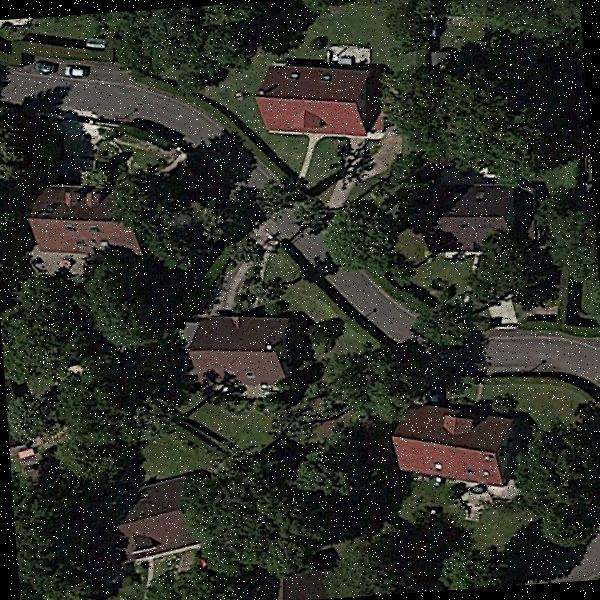Buildings: (262, 60, 378, 138), (26, 179, 138, 255), (190, 318, 291, 395), (110, 488, 187, 546)
